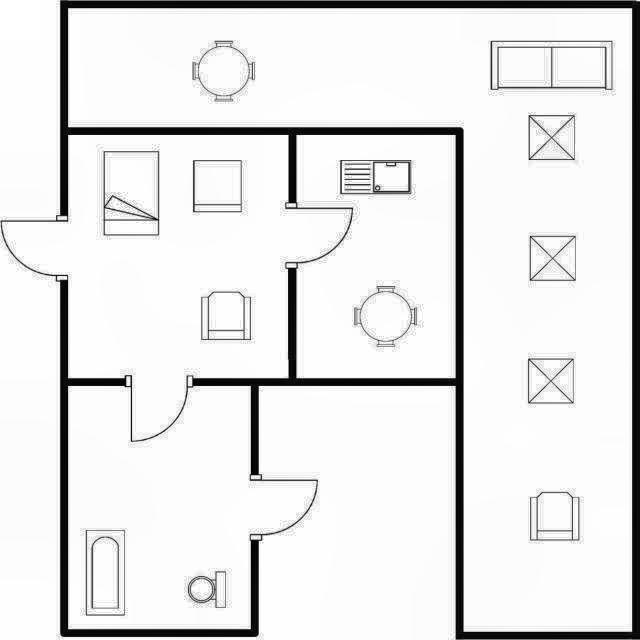room: (67, 8, 633, 633), (68, 136, 289, 378), (68, 386, 250, 629), (297, 134, 454, 379)
